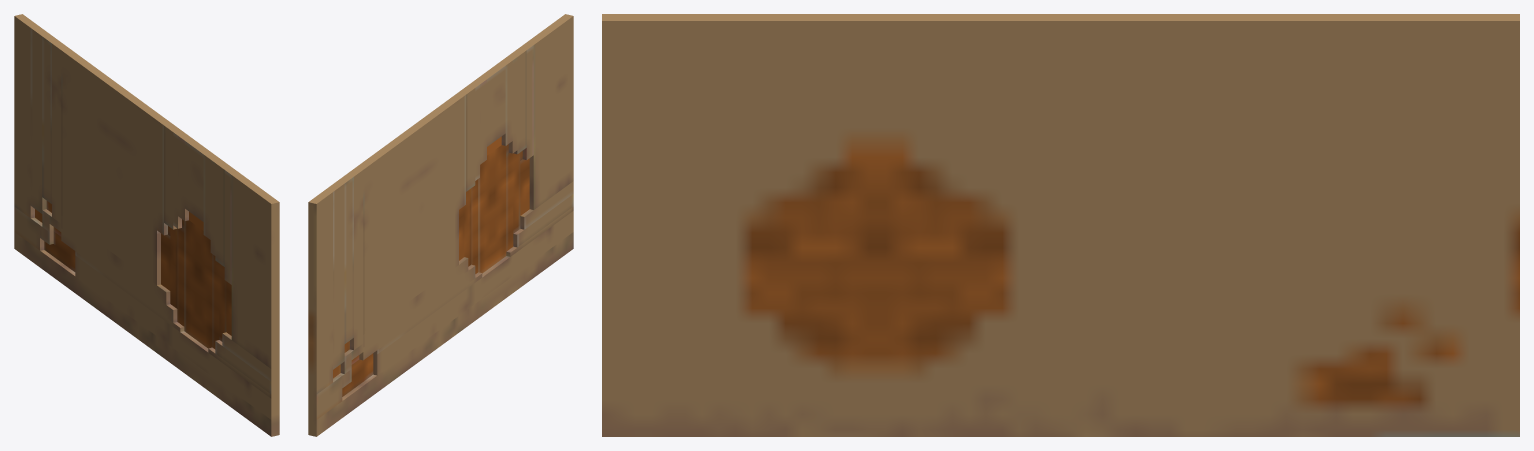
File: WallBackSeverelyDamaged_A_00.obj
3 renders of one model, left to right at view 1: azimuth 30°, elevation 25°; view 2: azimuth 150°, elevation 25°; view 3: azimuth 270°, elevation 25°, orthographic. The views are drawn at different scales.
Visible parts, largest first — view 1: WallBackSeverelyDamaged_A_00; view 2: WallBackSeverelyDamaged_A_00; view 3: WallBackSeverelyDamaged_A_00.
Boxes of the visible parts, bbox=[...] form: WallBackSeverelyDamaged_A_00: bbox=[14, 14, 279, 436]; WallBackSeverelyDamaged_A_00: bbox=[308, 14, 573, 436]; WallBackSeverelyDamaged_A_00: bbox=[602, 14, 1519, 436].
Bounding box in the file's own units: 0.1 × 2.75 × 5.5.
